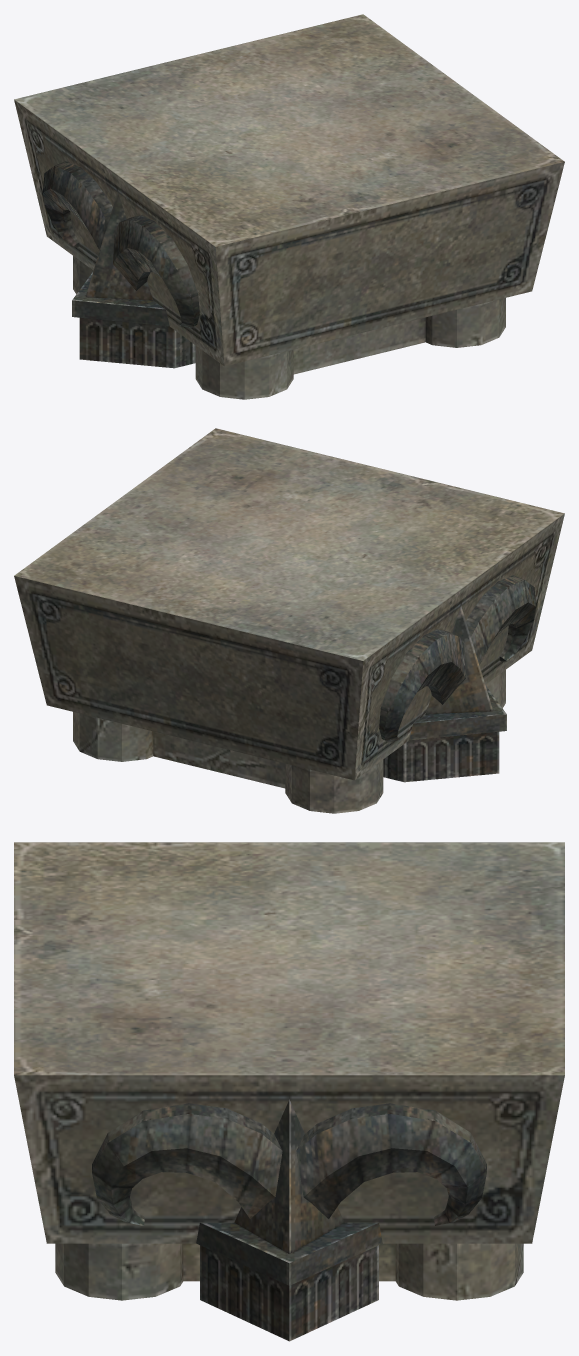
The model's file is bg_lut_lutomb_pillar08a_sm_old.FBX.
3 renders of one model, top to bottom at view 1: azimuth 30°, elevation 25°; view 2: azimuth 150°, elevation 25°; view 3: azimuth 270°, elevation 25°, orthographic. The views are drawn at different scales.
Parts seen in each view (by area): view 1: bg_lut_lutomb_pillar08a_sm_old; view 2: bg_lut_lutomb_pillar08a_sm_old; view 3: bg_lut_lutomb_pillar08a_sm_old.
Part boxes in pixels (x1=…): bg_lut_lutomb_pillar08a_sm_old: x1=14, y1=14, x2=564, y2=399; bg_lut_lutomb_pillar08a_sm_old: x1=14, y1=428, x2=564, y2=813; bg_lut_lutomb_pillar08a_sm_old: x1=14, y1=842, x2=564, y2=1341.
Bounding box in the file's own units: 164 × 64 × 132.
